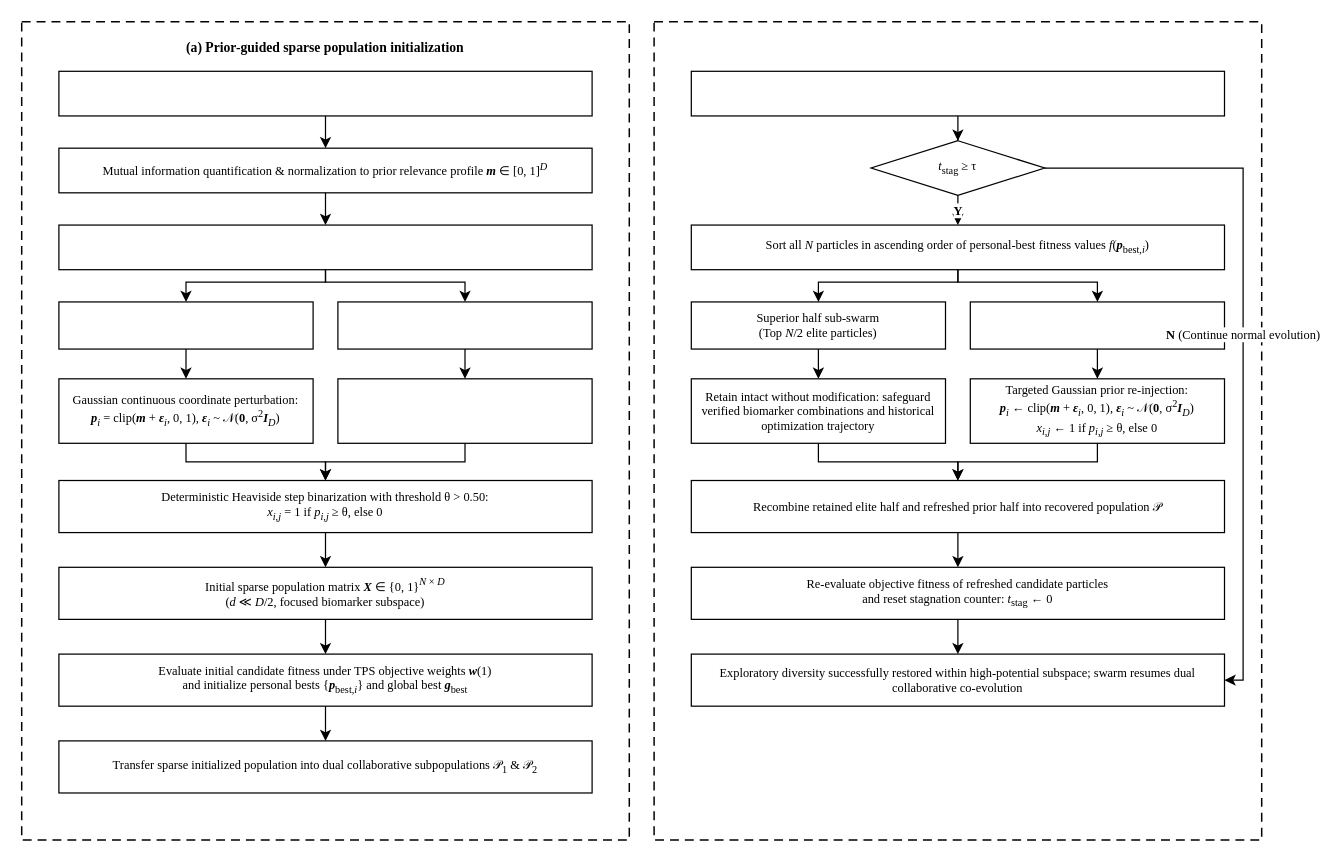
Some shapes in this 1342 by 863 pixel diagram are drawn without their labels. The box of each missing label's shape, as (x1, y1, x2, y2) in pixels:
(b) Adaptive stagnation recovery via diversity re-injection: (653, 20, 1262, 840)
Evolutionary progress monitoring: global best fitness fails to improve: (690, 70, 1224, 116)
Hybrid population seeding strategy (Swarm size N , seeding ratio ρ ∈ (0, 1)): (58, 224, 592, 270)
Inferior half sub-swarm (Bottom N /2 stagnant particles): (969, 301, 1224, 349)
Prior-guided candidate seeding (⌊ρ N ⌋ particles): (58, 301, 313, 349)
Training dataset D = {( f i , y i )} with N samp samples & D features: (58, 70, 592, 116)
Uniform random continuous coordinate sampling: p i = u i , u i ~ 𝒰(0, 1) D: (337, 378, 592, 443)
Uniform stochastic exploration ( N - ⌊ρ N ⌋ particles): (337, 301, 592, 349)
